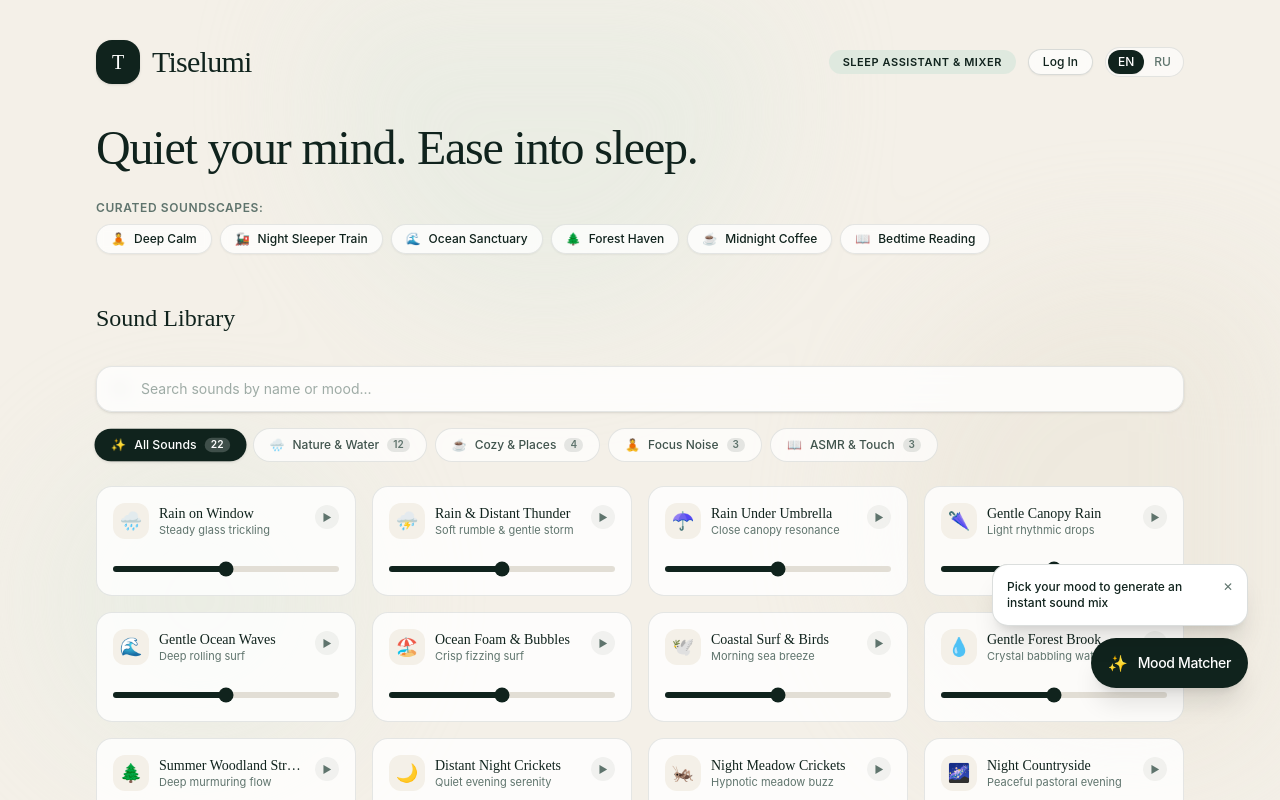
App › filters sounds when selecting a category tab
Click on "Focus Noise" category tab
Click the tab "🧘 Focus Noise 3". click: click(685, 445)
box: [608,428,762,462]
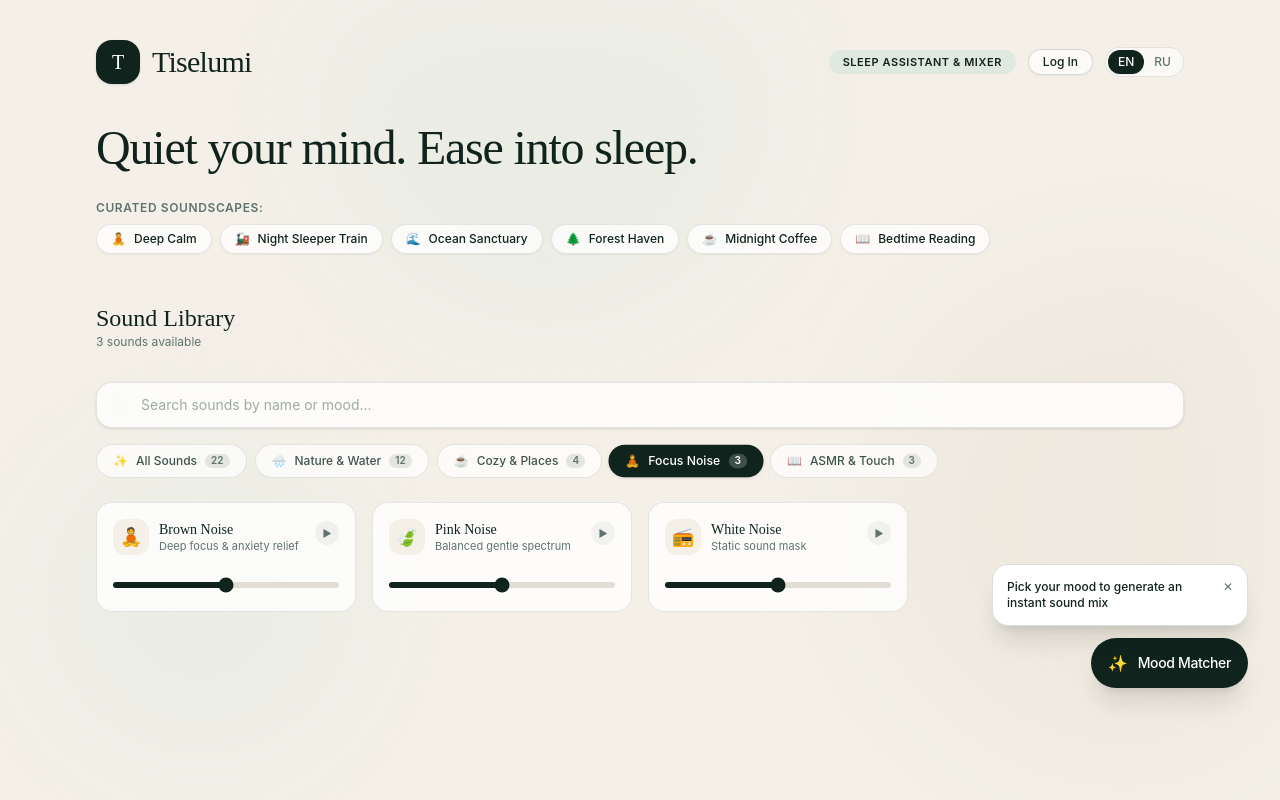
Expected: the heading "Brown Noise" is shown, [159,522,233,537]
Expected: the button "Rain on Window" is gone
